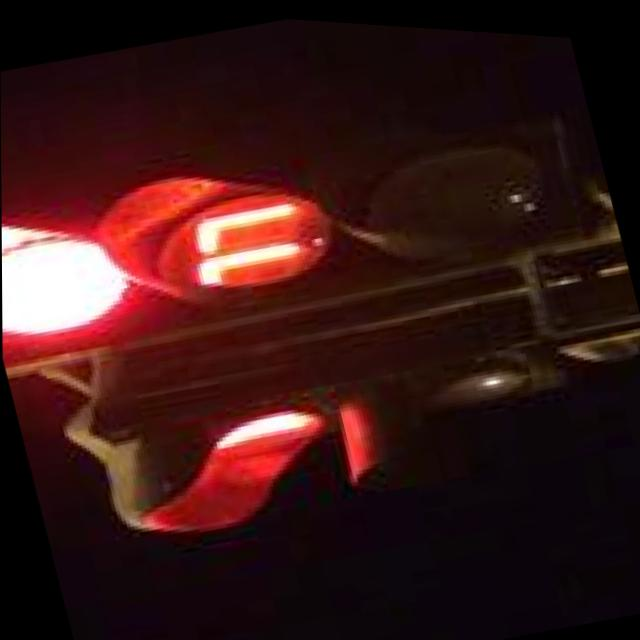red_light: (102, 325, 407, 573), (1, 134, 171, 379)
